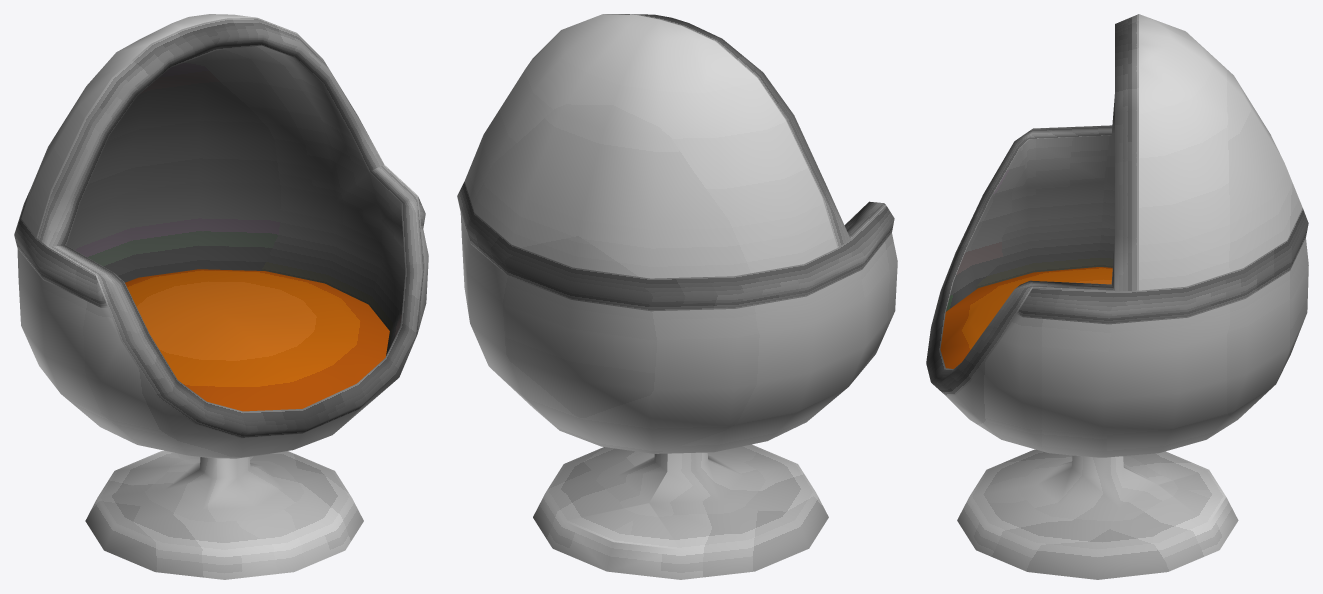
File: rmk_fut_chairS.dae
3 renders of one model, left to right at view 1: azimuth 30°, elevation 25°; view 2: azimuth 150°, elevation 25°; view 3: azimuth 270°, elevation 25°, orthographic. The views are drawn at different scales.
Parts seen in each view (by area): view 1: rmk_fut_chairS; view 2: rmk_fut_chairS; view 3: rmk_fut_chairS.
Boxes of the visible parts, x1=… form: rmk_fut_chairS: x1=14, y1=14, x2=428, y2=579; rmk_fut_chairS: x1=457, y1=14, x2=897, y2=579; rmk_fut_chairS: x1=926, y1=14, x2=1308, y2=579.
Bounding box in the file's own units: 30.35 × 38.96 × 27.67.
Materials: 1 (1 with a texture image).
